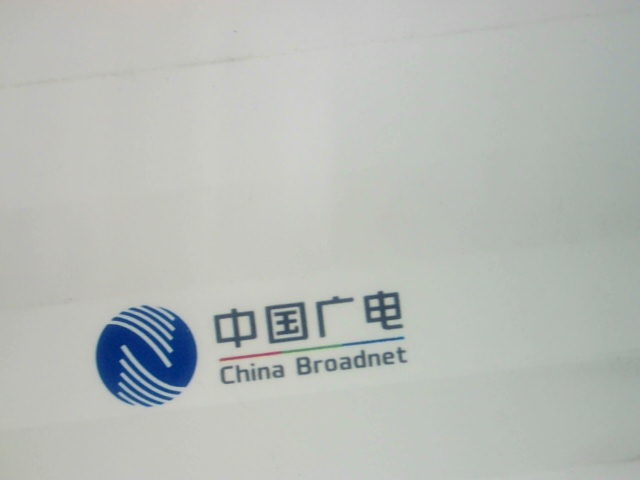AW_ChinaBroadNet: (81, 281, 457, 408)
